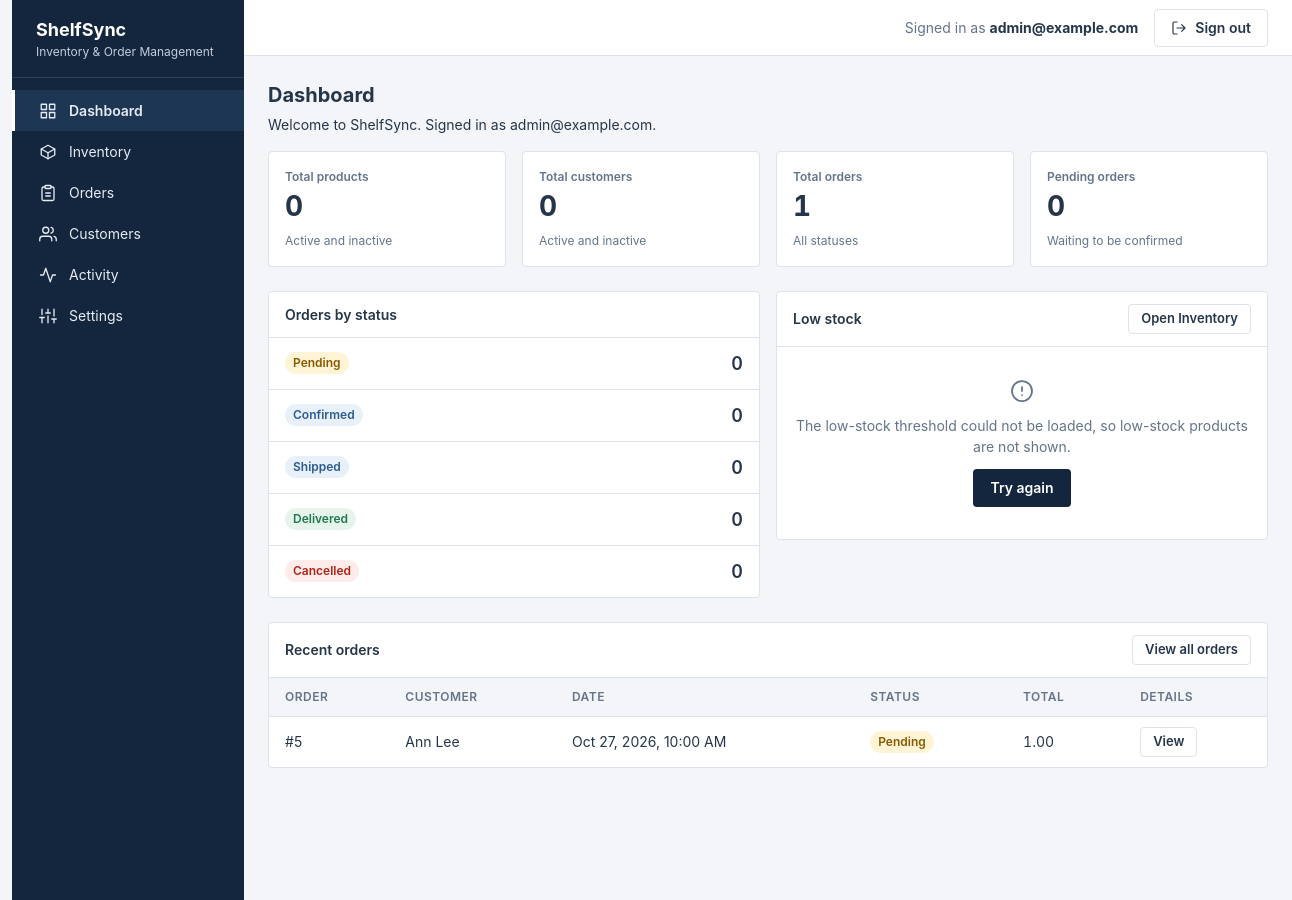
Test: a dashboard link to one order opens /orders with the details of that order
The width and height of the screenshot is (1292, 900).
Step 1. Click the button with aria-label "View order #5" → (1169, 742), box [1140,727,1198,757]
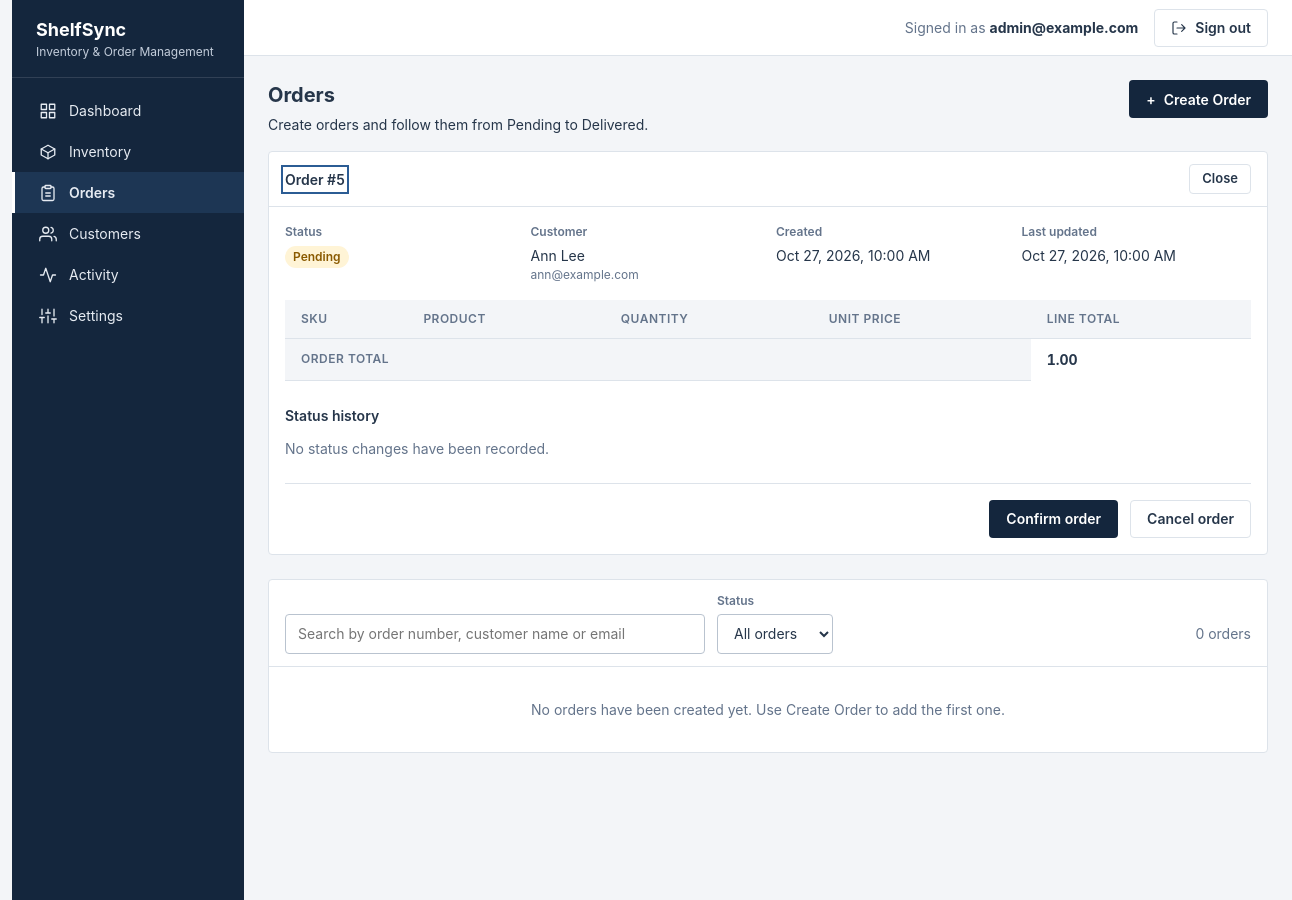
Expected: the heading "Order #5" is shown, [285,168,345,190]
